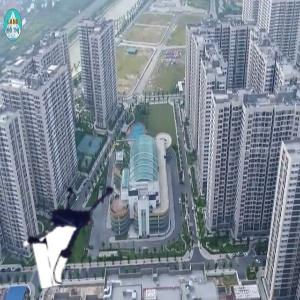drone: (19, 162, 138, 281)
